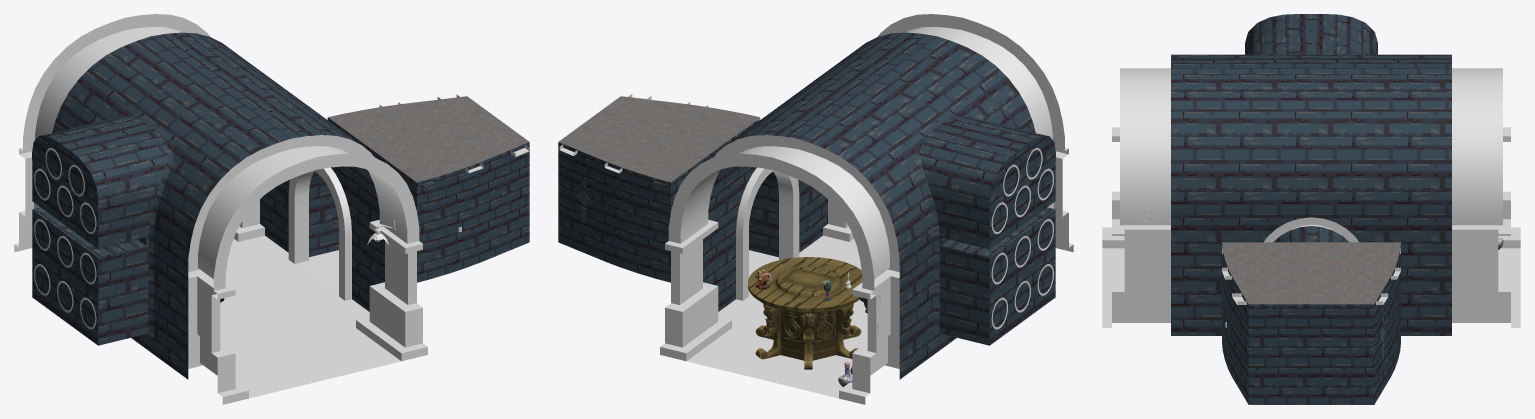
File: Dungeon.fbx
3 renders of one model, left to right at view 1: azimuth 30°, elevation 25°; view 2: azimuth 150°, elevation 25°; view 3: azimuth 270°, elevation 25°, orthographic.
Parts seen in each view (by area): view 1: Hall_Pillars, Hall_Tile_Wine_Storage, Hall_Tile_Door; view 2: Hall_Pillars, Hall_Tile_Wine_Storage, Hall_Tile_Door, Gameboard; view 3: Hall_Tile_Door, Hall_Pillars, Hall_Tile_Wine_Storage.
Part boxes in pixels (bbox=[...]): Hall_Pillars: bbox=[14, 14, 529, 404]; Hall_Tile_Wine_Storage: bbox=[32, 36, 290, 379]; Hall_Tile_Door: bbox=[151, 32, 384, 311]; Hall_Pillars: bbox=[558, 14, 1073, 404]; Hall_Tile_Wine_Storage: bbox=[797, 36, 1055, 379]; Hall_Tile_Door: bbox=[703, 32, 936, 311]; Gameboard: bbox=[748, 257, 862, 369]; Hall_Tile_Door: bbox=[1171, 68, 1451, 335]; Hall_Pillars: bbox=[1102, 68, 1520, 404]; Hall_Tile_Wine_Storage: bbox=[1171, 14, 1451, 68].
Size of the model in its own units: 844 by 402 by 703.
